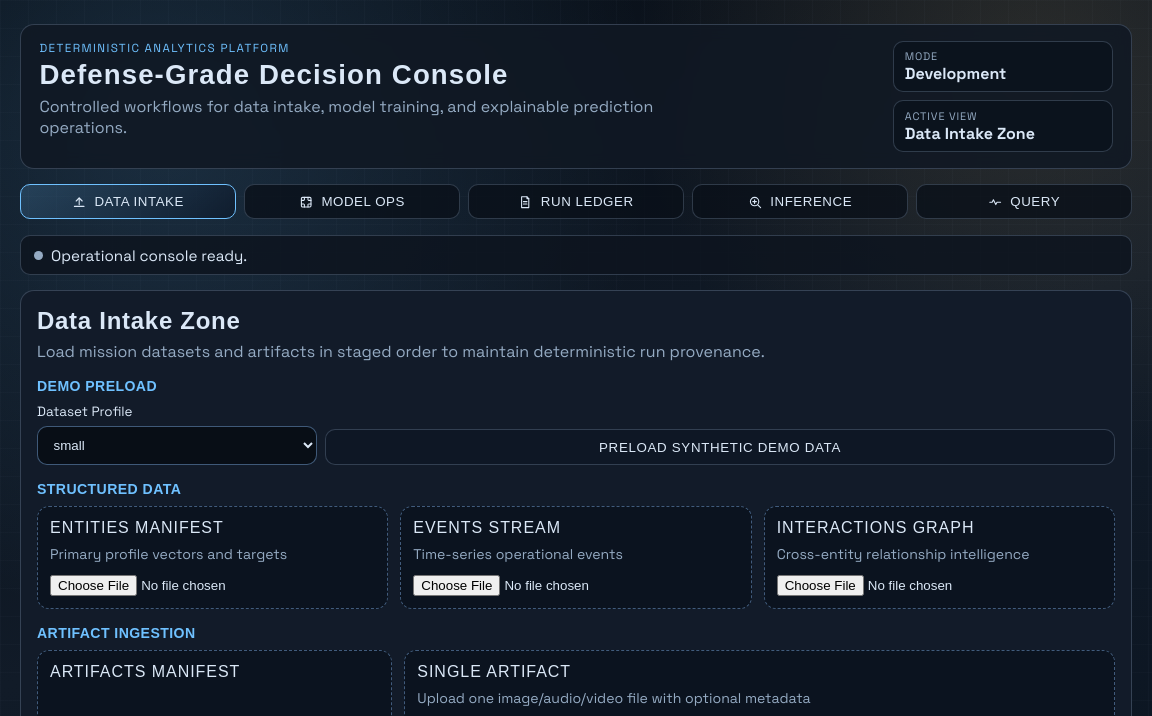
it: App integration flow › runs natural language query and renders results
The image size is (1152, 716).
Step 1. Click the button with test id "tab-query" → click(1024, 202), box [916,184,1132,219]
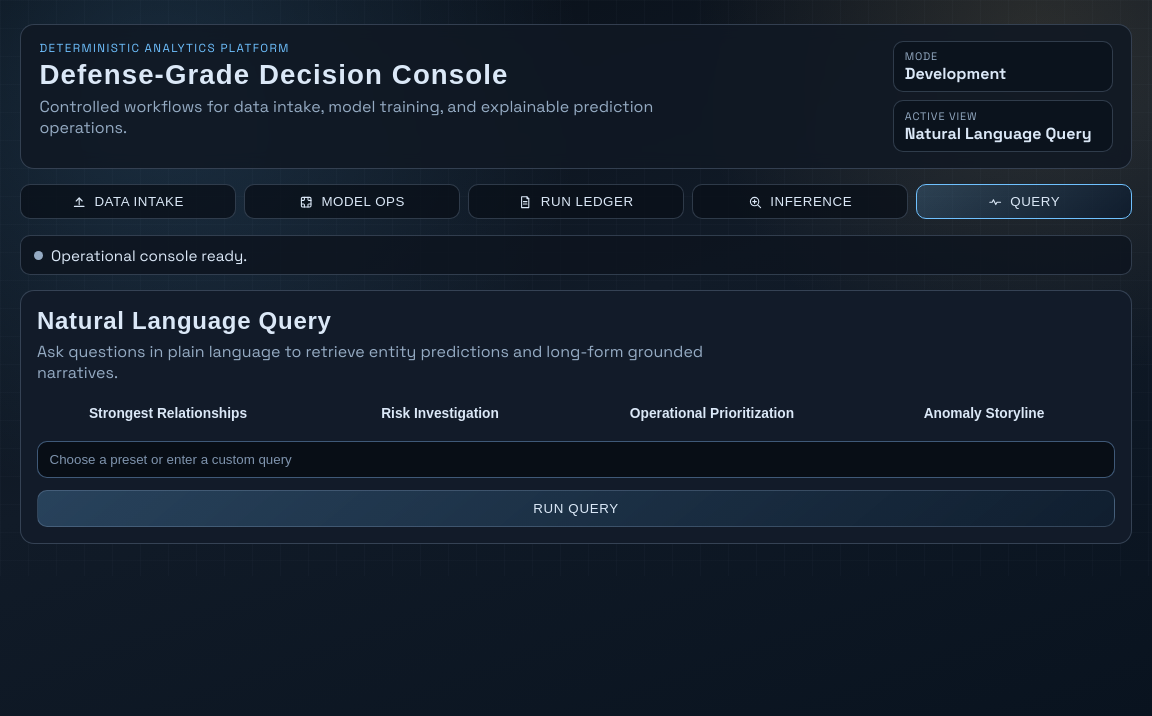
Step 2. Type "show strongest entities" into the field with test id "input-query" → (576, 460), box [37,441,1115,478]
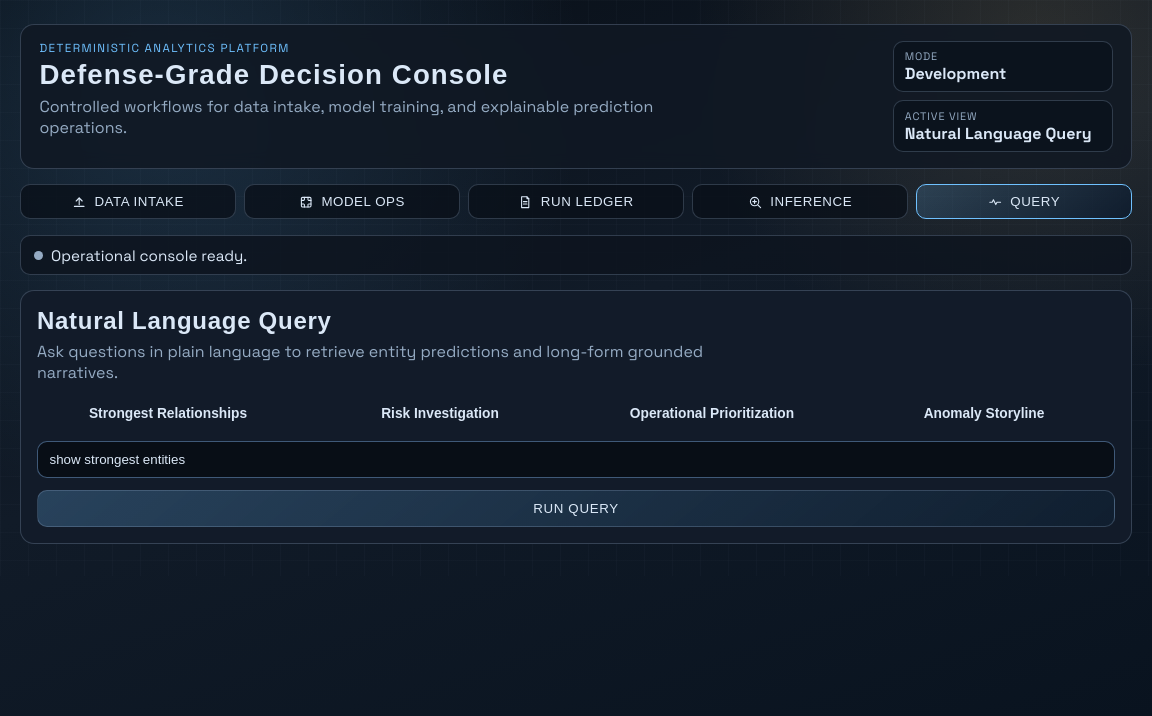
Step 3. Click the button with test id "action-query" → click(576, 509), box [37,490,1115,527]
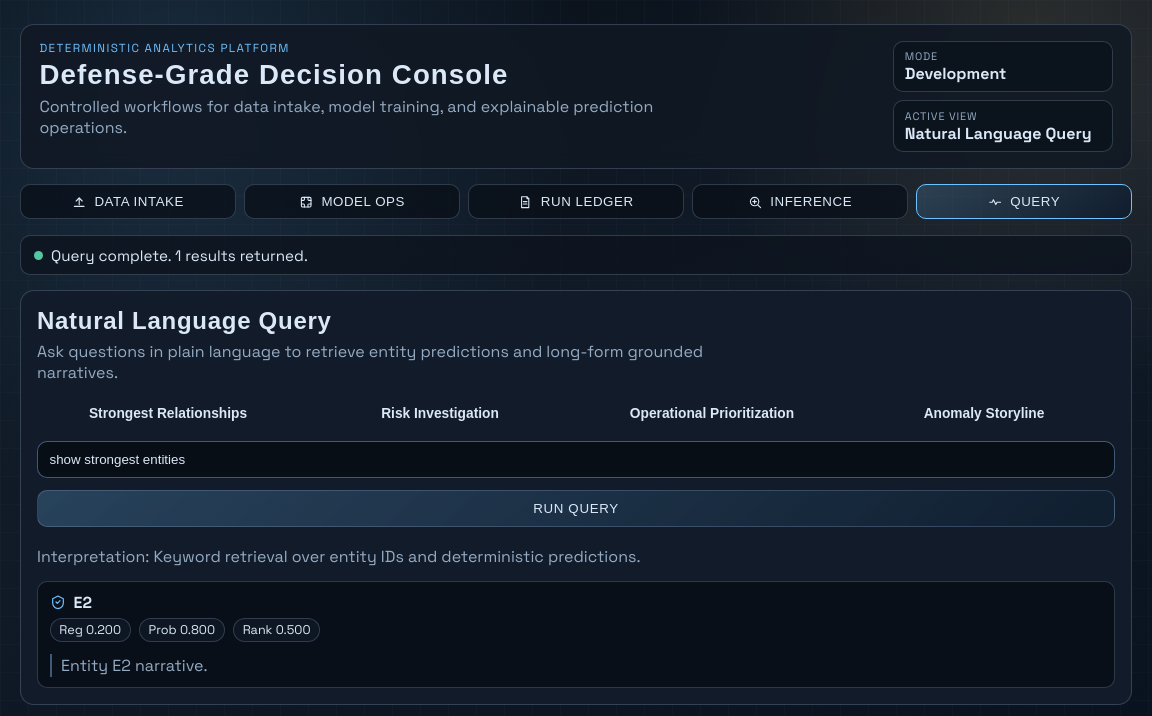
Check: the text "Entity E2 narrative." is shown, box [50,654,1102,677]
